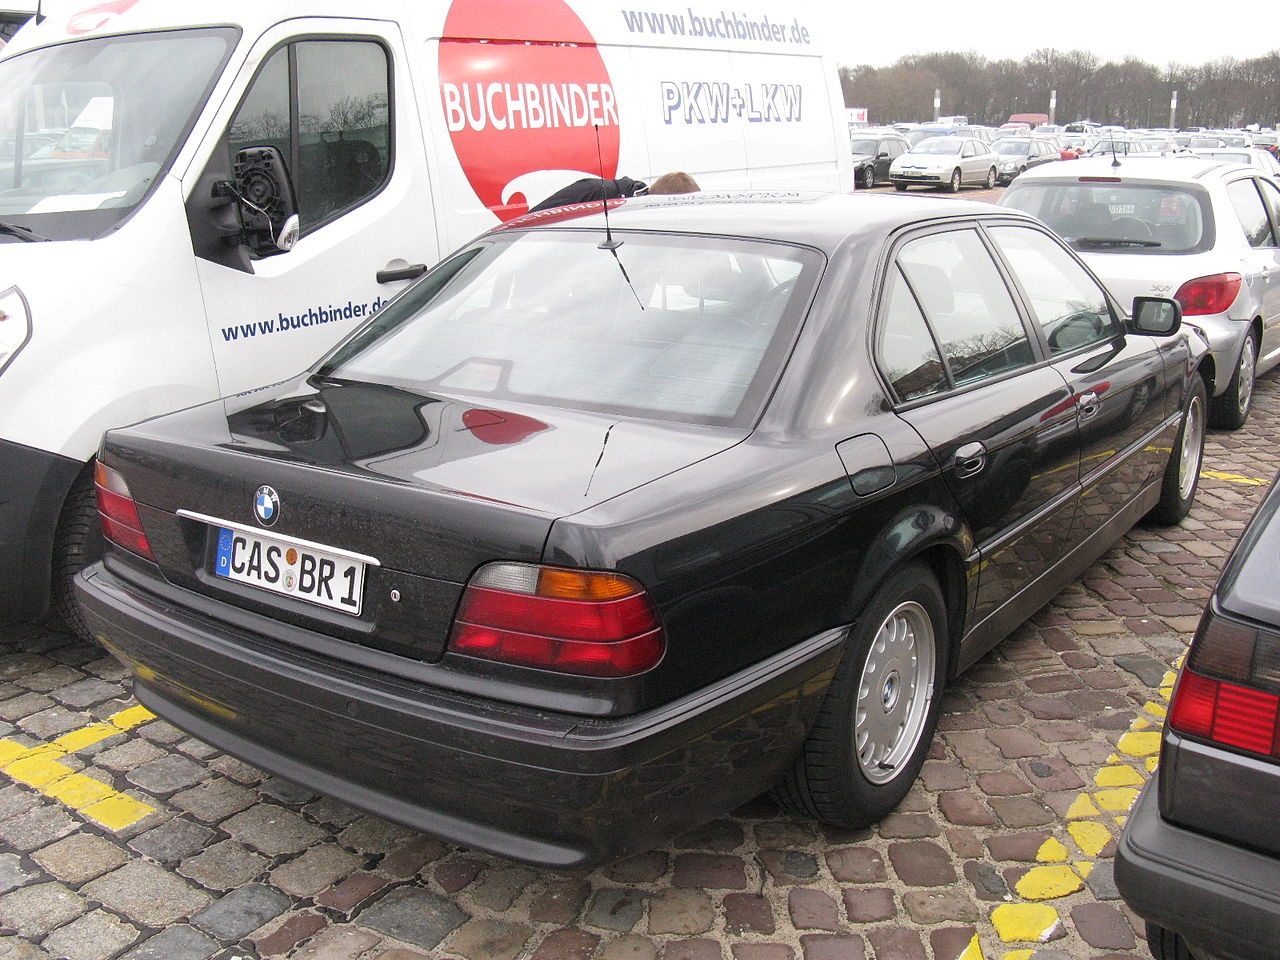plate: (214, 523, 369, 619)
